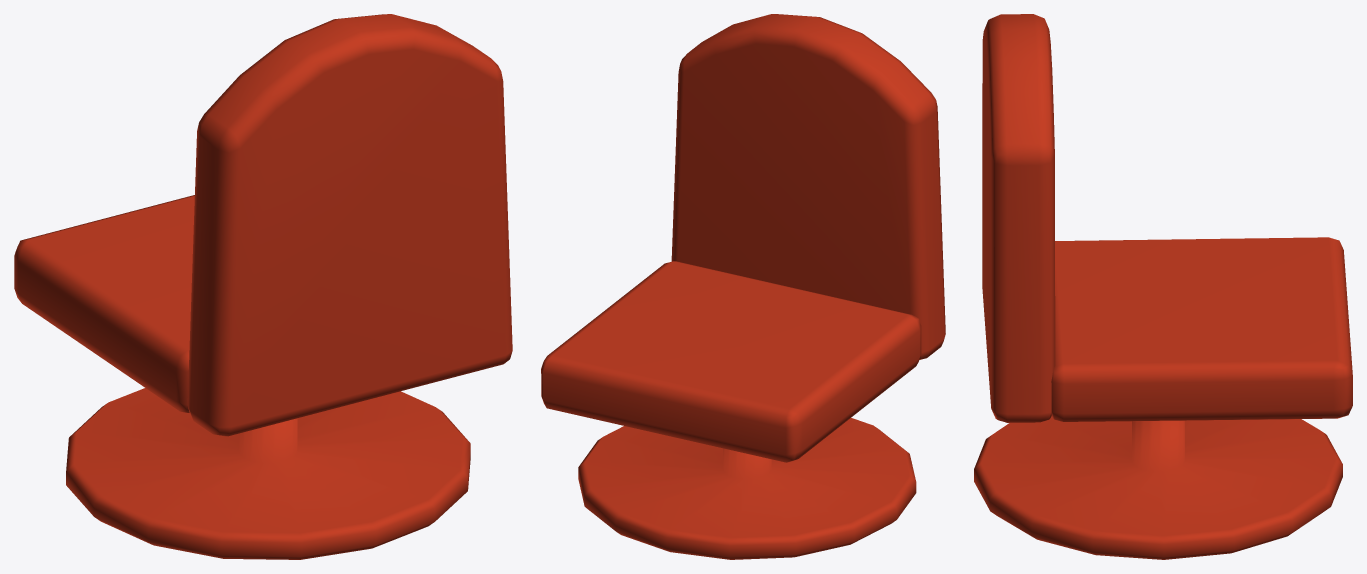
File: Chair2.fbx
3 renders of one model, left to right at view 1: azimuth 30°, elevation 25°; view 2: azimuth 150°, elevation 25°; view 3: azimuth 270°, elevation 25°, orthographic. The views are drawn at different scales.
Parts seen in each view (by area): view 1: Chair2; view 2: Chair2; view 3: Chair2.
Boxes of the visible parts, x1=… form: Chair2: x1=14, y1=14, x2=512, y2=559; Chair2: x1=541, y1=14, x2=945, y2=559; Chair2: x1=974, y1=14, x2=1352, y2=559.
Size of the model in its own units: 1.62 by 2.22 by 1.67.
